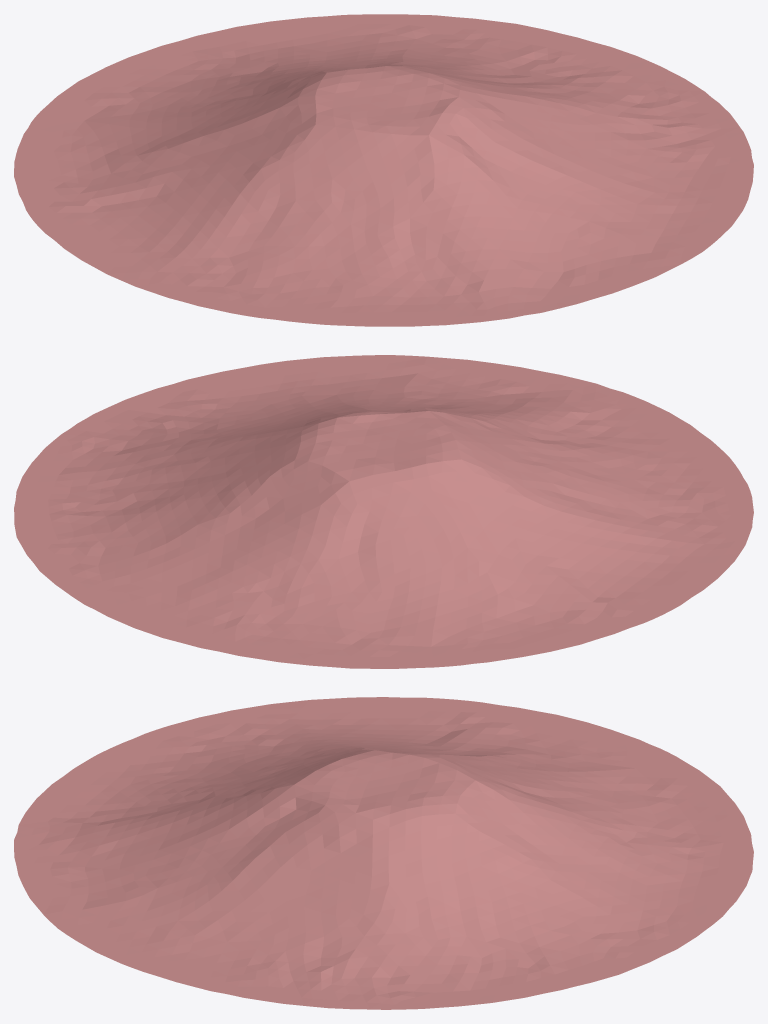
File: level_1.glb
3 renders of one model, top to bottom at view 1: azimuth 30°, elevation 25°; view 2: azimuth 150°, elevation 25°; view 3: azimuth 270°, elevation 25°, orthographic.
Parts seen in each view (by area): view 1: world; view 2: world; view 3: world.
Part boxes in pixels (x1,y1,x2,y2): world: (14,14,753,326); world: (14,355,753,668); world: (14,697,753,1009).
Size of the model in its own units: 0.6285 by 0.0675 by 0.6281.
